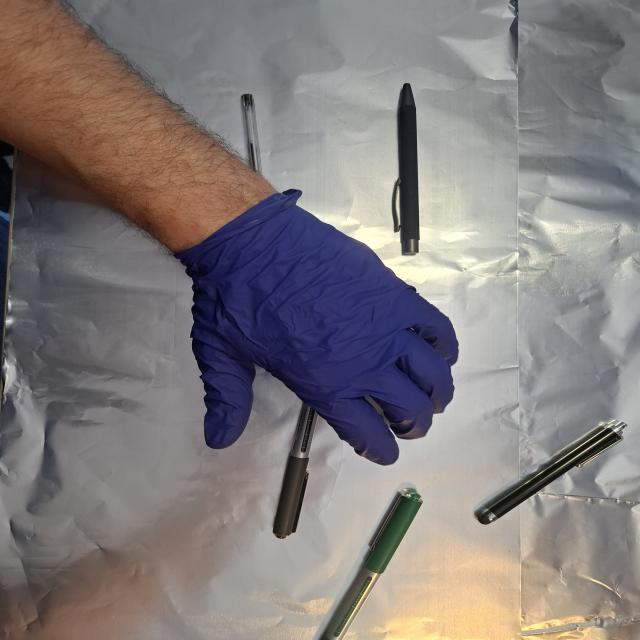glove_on: (184, 191, 463, 469)
